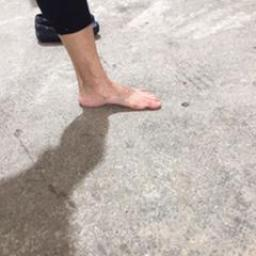Medial View -Left Foot-: (68, 64, 168, 130)
